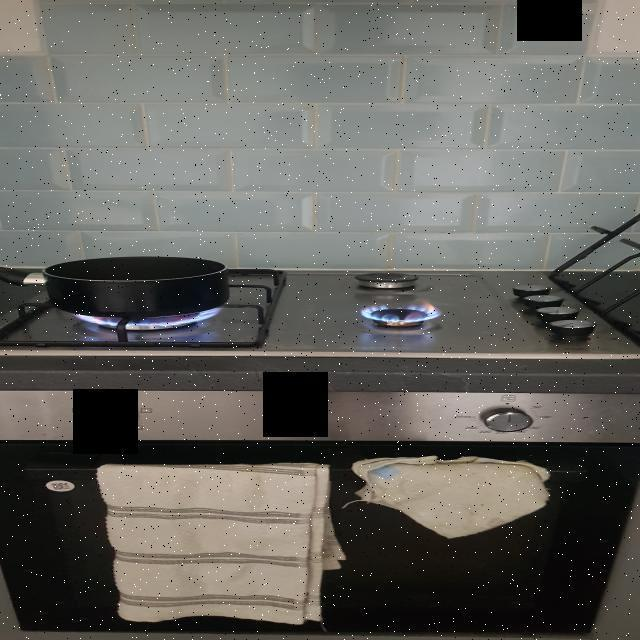Flame: (55, 313, 232, 339), (360, 300, 443, 333)
Pan: (28, 249, 249, 315)
